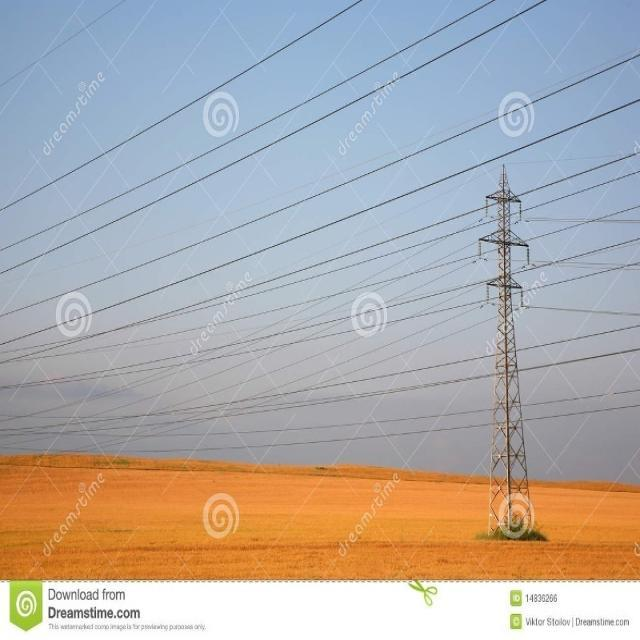non-critical vegetation: (471, 184, 553, 527)
